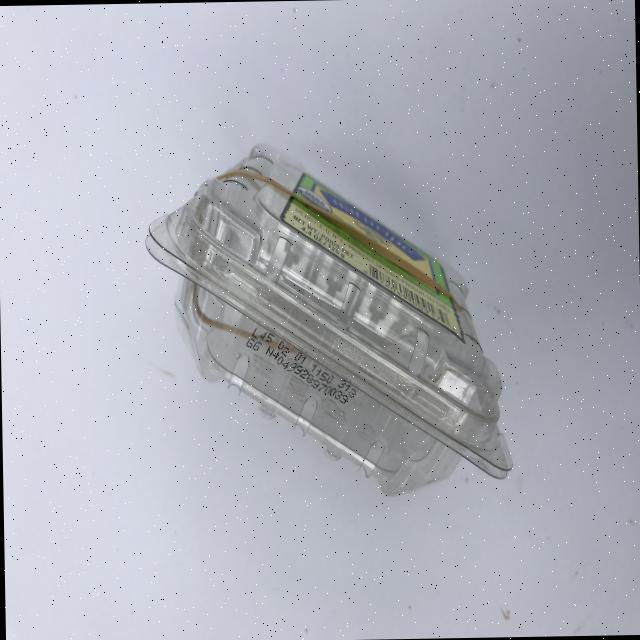plastic: (144, 138, 514, 500)
